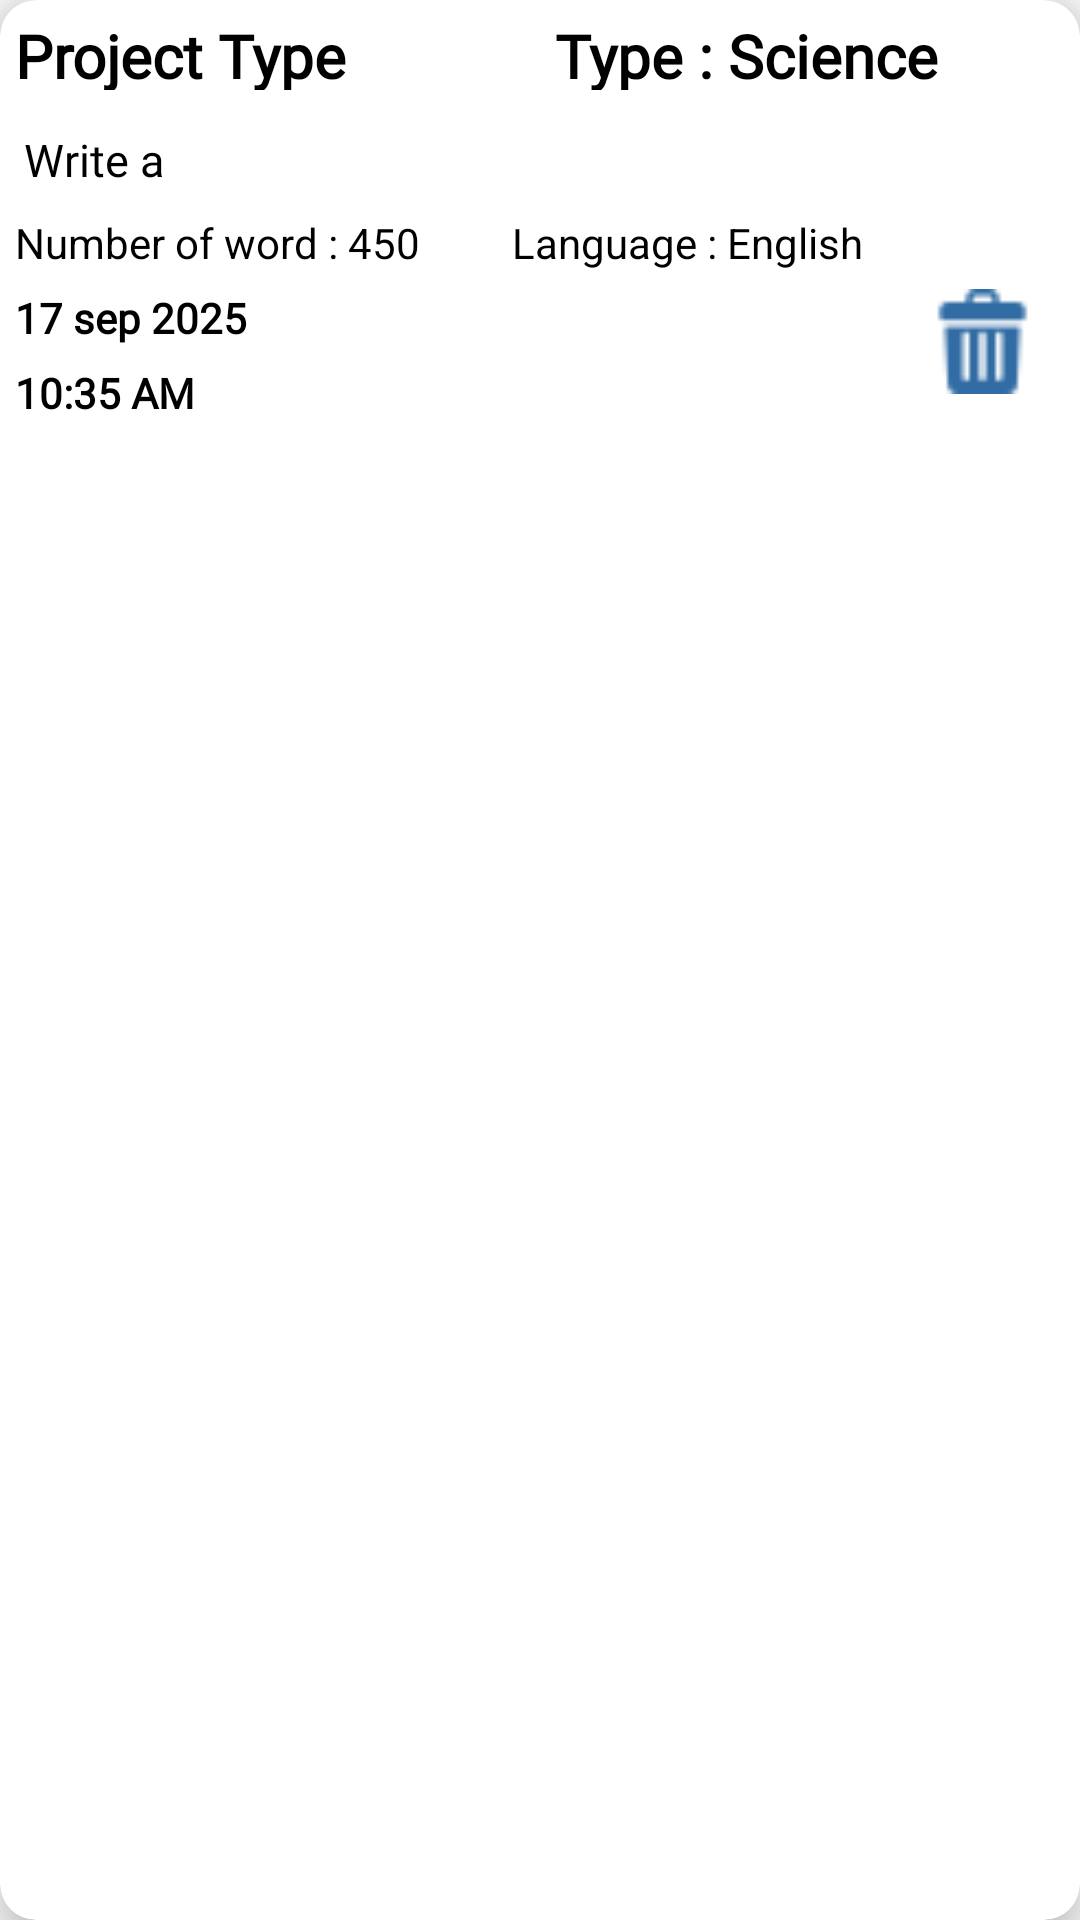

Where icons sit on this 1080px x 1920px app screen, as (x1, y1, x2, y2):
trash: (937, 289, 1028, 394)
